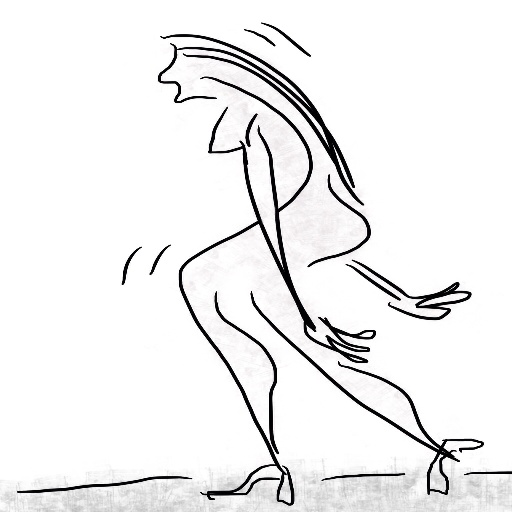hand: (299, 312, 378, 364), (386, 281, 472, 320)
